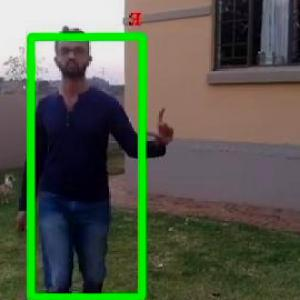land_hand: (139, 101, 181, 150)
